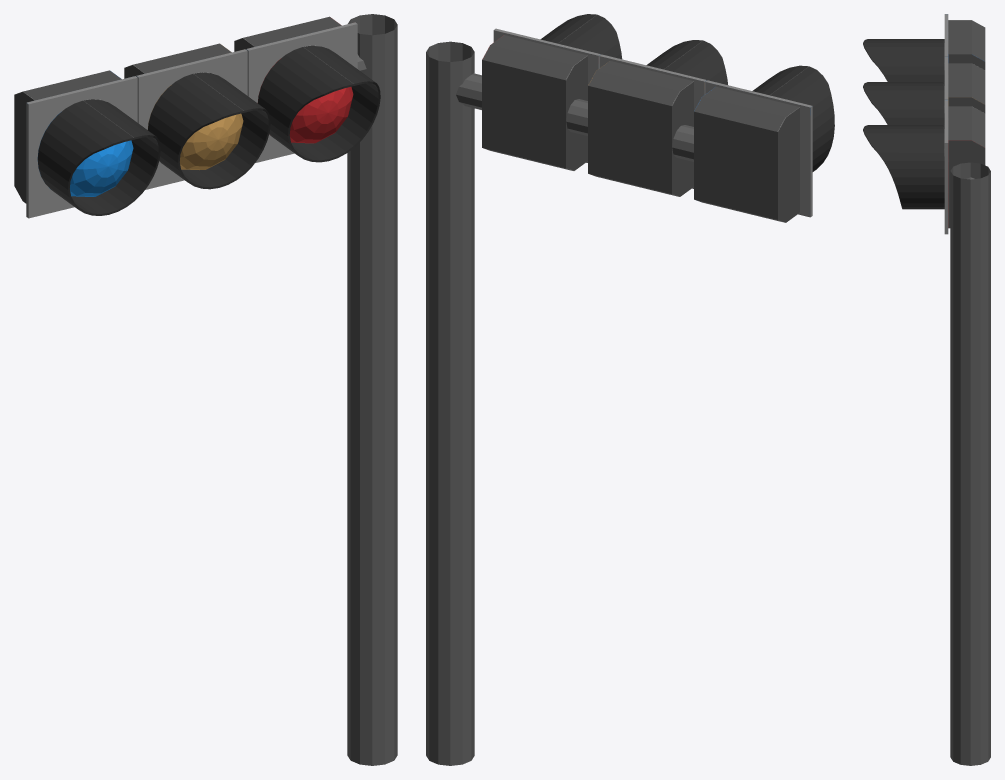
The model's file is Traffic Light.glb.
3 renders of one model, left to right at view 1: azimuth 30°, elevation 25°; view 2: azimuth 150°, elevation 25°; view 3: azimuth 270°, elevation 25°, orthographic. The views are drawn at different scales.
Visible parts, largest first — view 1: Pole_Module_1, Light_Module_0, Light_Module.001_2, Light_Module.002_3; view 2: Pole_Module_1, Light_Module_0, Light_Module.002_3, Light_Module.001_2; view 3: Pole_Module_1, Light_Module.002_3, Light_Module.001_2, Light_Module_0.
Boxes of the visible parts, x1,y1,x2,y2 form: Pole_Module_1: [347, 14, 397, 765]; Light_Module_0: [14, 70, 160, 218]; Light_Module.001_2: [124, 43, 270, 189]; Light_Module.002_3: [234, 16, 380, 162]; Pole_Module_1: [426, 41, 693, 765]; Light_Module_0: [694, 65, 834, 222]; Light_Module.002_3: [482, 14, 622, 170]; Light_Module.001_2: [588, 40, 727, 196]; Pole_Module_1: [950, 162, 990, 765]; Light_Module.002_3: [863, 100, 985, 234]; Light_Module.001_2: [863, 57, 985, 124]; Light_Module_0: [863, 14, 985, 81].
Size of the model in its own units: 8.75 by 16.44 by 3.16.
4 materials, 3 textured.
